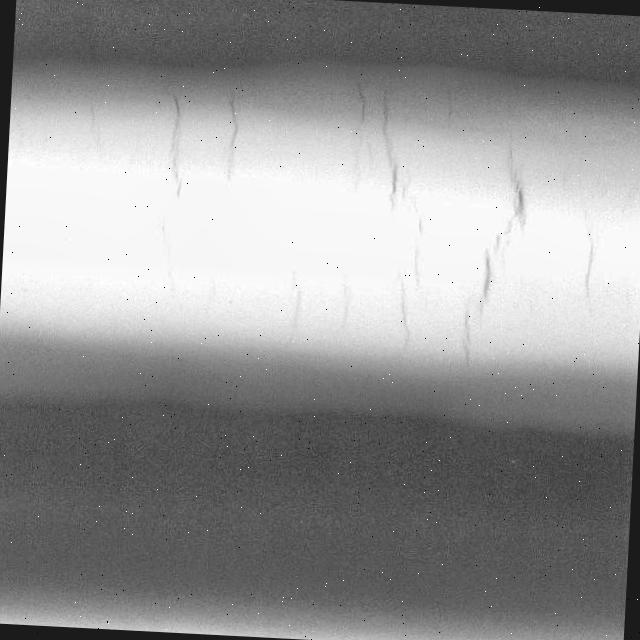Crack: (136, 78, 250, 338), (361, 72, 450, 378), (454, 106, 547, 392), (319, 76, 391, 352), (560, 184, 618, 334), (266, 229, 318, 362), (61, 96, 118, 182)
